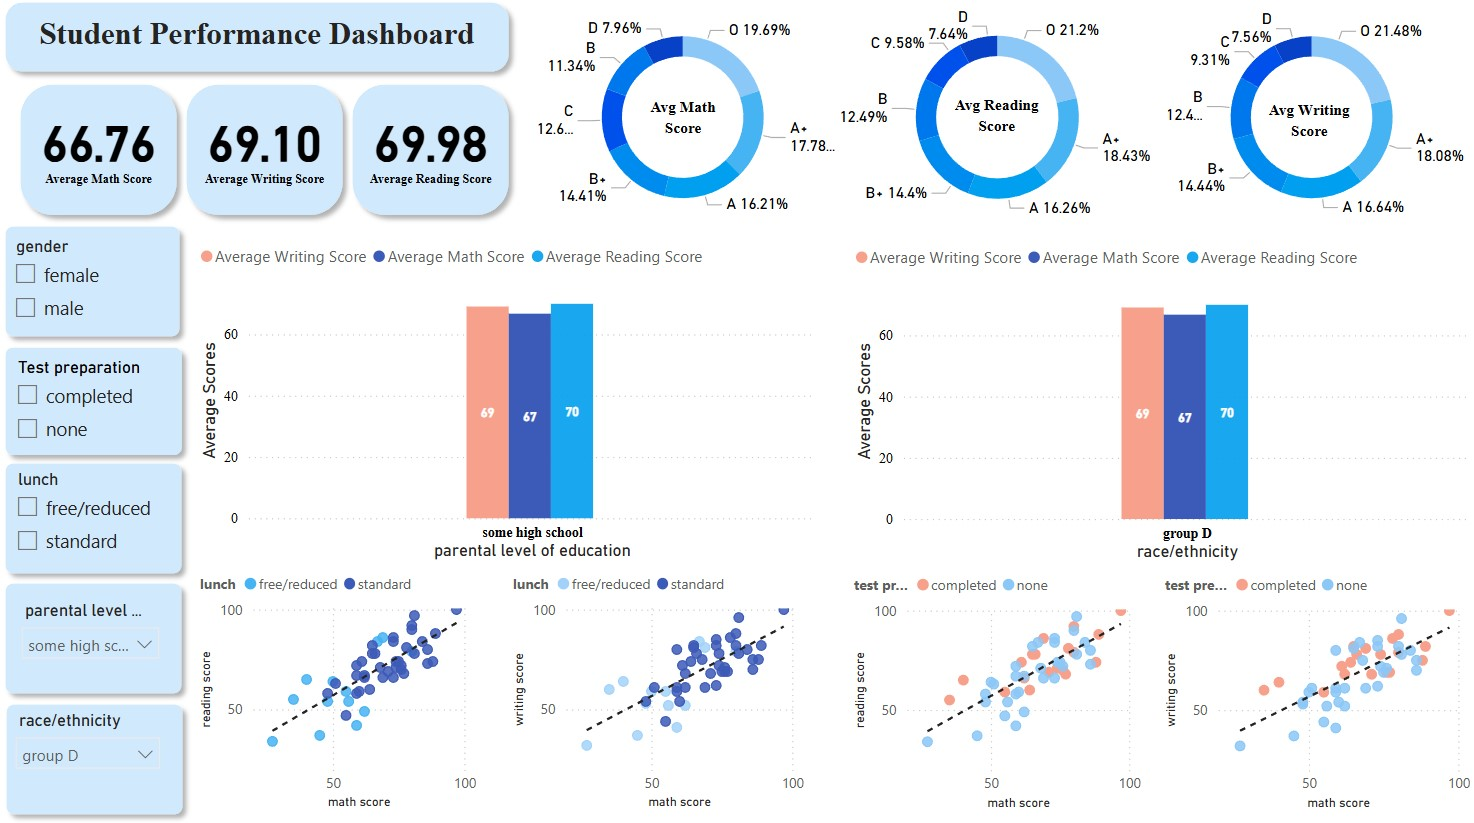

Layout of this report page (visuals, bound fields, positions):
{"tool":"powerbi","page":{"name":"Page 1","canvas":[1280,720],"ordinal":0},"visuals":[{"type":"shape","box":[0,0,453.3,77.8],"z":0},{"type":"textbox","box":[21.1,15.6,411.1,46.7],"z":1000},{"type":"group","id":"g1","title":"Group 1","box":[13.3,71.1,153.3,131.1],"z":2000},{"type":"shape","box":[2.2,202.2,202.2,157.8],"z":2000,"group":"g8"},{"type":"shape","box":[0,527.8,202.2,157],"z":2000,"group":"g9"},{"type":"shape","box":[0,365.6,202.2,157],"z":3000},{"type":"group","id":"g2","title":"Group 1","box":[156.7,71.1,153.3,131.1],"z":4000},{"type":"donutChart","fields":{"Category":["StudentsPerformance.Grade"],"Y":["StudentsPerformance.Average Math Score"]},"box":[453.3,7.8,283.3,201.1],"z":5000,"group":"g5"},{"type":"group","id":"g3","title":"Group 1","box":[299.6,71.1,153.3,131.1],"z":5000},{"type":"donutChart","fields":{"Category":["StudentsPerformance.Grade"],"Y":["StudentsPerformance.Average Reading Score"]},"box":[721.1,7.8,291.1,201.1],"z":6000,"group":"g6"},{"type":"group","id":"g4","title":"Group 4","box":[996.7,7.8,283.3,201.1],"z":6000},{"type":"group","id":"g5","title":"Group 5","box":[453.3,7.8,283.3,201.1],"z":7000},{"type":"textbox","box":[552.2,84.5,86.7,47.8],"z":7000,"group":"g5"},{"type":"shape","box":[13.3,71.1,153.3,131.1],"z":7500,"group":"g1"},{"type":"shape","box":[156.7,71.1,153.3,131.1],"z":7500,"group":"g2"},{"type":"shape","box":[299.6,71.1,153.3,131.1],"z":7500,"group":"g3"},{"type":"group","id":"g6","title":"Group 6","box":[721.1,7.8,291.1,201.1],"z":8000},{"type":"textbox","box":[814.4,83.4,103.3,51.1],"z":8000,"group":"g6"},{"type":"clusteredColumnChart","fields":{"Category":["StudentsPerformance.parental level of education"],"Y":["StudentsPerformance.Average Writing Score","StudentsPerformance.Average Math Score","StudentsPerformance.Average Reading Score"]},"box":[204.4,208.9,542.2,287.8],"z":9000},{"type":"card","fields":{"Values":["StudentsPerformance.Average Math Score"]},"box":[27.7,91.1,124.4,83.3],"z":10000,"group":"g1"},{"type":"card","fields":{"Values":["StudentsPerformance.Average Writing Score"]},"box":[171.1,91.1,124.4,83.3],"z":10000,"group":"g2"},{"type":"card","fields":{"Values":["StudentsPerformance.Average Reading Score"]},"box":[314,91.1,124.4,83.3],"z":10000,"group":"g3"},{"type":"clusteredColumnChart","fields":{"Y":["StudentsPerformance.Average Writing Score","StudentsPerformance.Average Math Score","StudentsPerformance.Average Reading Score"],"Category":["StudentsPerformance.race/ethnicity"]},"box":[737.8,208.9,542.2,287.8],"z":10000},{"type":"group","id":"g7","title":"Group 7","box":[996.7,7.8,283,201.1],"z":10003,"group":"g4"},{"type":"pieChart","fields":{"Y":["CountNonNull(StudentsPerformance.gender)"],"Category":["StudentsPerformance.gender"]},"box":[2.2,215.8,200,131.6],"z":10007,"group":"g8"},{"type":"pieChart","fields":{"Category":["StudentsPerformance.lunch"],"Y":["CountNonNull(StudentsPerformance.lunch)"]},"box":[0,541.3,200,131],"z":10007,"group":"g9"},{"type":"group","id":"g8","title":"Group 2","box":[2.2,202.2,202.2,157.8],"z":11000},{"type":"pieChart","fields":{"Category":["StudentsPerformance.test preparation course"],"Y":["CountNonNull(StudentsPerformance.test preparation course)"]},"box":[0,379,200,131],"z":12000},{"type":"group","id":"g9","title":"Group 2","box":[0,527.8,202.2,156.7],"z":13000},{"type":"donutChart","fields":{"Category":["StudentsPerformance.Grade"],"Y":["StudentsPerformance.Average Writing Score"]},"box":[996.7,7.8,283,201.1],"z":14000,"group":"g7"},{"type":"scatterChart","fields":{"Y":["StudentsPerformance.writing score"],"Series":["StudentsPerformance.lunch"],"X":["StudentsPerformance.math score"]},"box":[463.7,496.7,262.2,218.9],"z":14000},{"type":"scatterChart","fields":{"X":["StudentsPerformance.math score"],"Y":["StudentsPerformance.reading score"],"Series":["StudentsPerformance.lunch"]},"box":[204.4,496.7,248.9,218.9],"z":15000},{"type":"textbox","box":[1090.3,87.4,92.2,51.1],"z":15002,"group":"g7"},{"type":"scatterChart","fields":{"X":["StudentsPerformance.math score"],"Y":["StudentsPerformance.reading score"],"Series":["StudentsPerformance.test preparation course"]},"box":[736.3,496.7,258.9,218.9],"z":16000},{"type":"scatterChart","fields":{"X":["StudentsPerformance.math score"],"Y":["StudentsPerformance.writing score"],"Series":["StudentsPerformance.test preparation course"]},"box":[1005.6,496.7,274.4,218.9],"z":17000}]}

Visuals, with their boxes in screenshot pixels (x1, y1, x2, y2), scaled from the page's 1280x720 canvas onto the 1474x823 screenshot:
shape: bbox(0, 0, 522, 89)
textbox: bbox(24, 18, 498, 71)
"Group 1" group: bbox(15, 81, 192, 231)
shape: bbox(3, 231, 235, 412)
shape: bbox(0, 603, 233, 783)
shape: bbox(0, 418, 233, 597)
"Group 1" group: bbox(180, 81, 357, 231)
donutChart - StudentsPerformance.Grade x StudentsPerformance.Average Math Score: bbox(522, 9, 848, 239)
"Group 1" group: bbox(345, 81, 522, 231)
donutChart - StudentsPerformance.Grade x StudentsPerformance.Average Reading Score: bbox(830, 9, 1166, 239)
"Group 4" group: bbox(1148, 9, 1473, 239)
"Group 5" group: bbox(522, 9, 848, 239)
textbox: bbox(636, 97, 736, 151)
shape: bbox(15, 81, 192, 231)
shape: bbox(180, 81, 357, 231)
shape: bbox(345, 81, 522, 231)
"Group 6" group: bbox(830, 9, 1166, 239)
textbox: bbox(938, 95, 1057, 154)
clusteredColumnChart - StudentsPerformance.parental level of education x StudentsPerformance.Average Writing Score: bbox(235, 239, 860, 568)
card - StudentsPerformance.Average Math Score: bbox(32, 104, 175, 199)
card - StudentsPerformance.Average Writing Score: bbox(197, 104, 340, 199)
card - StudentsPerformance.Average Reading Score: bbox(362, 104, 505, 199)
clusteredColumnChart - StudentsPerformance.Average Writing Score x StudentsPerformance.Average Math Score: bbox(850, 239, 1473, 568)
"Group 7" group: bbox(1148, 9, 1473, 239)
pieChart - CountNonNull(StudentsPerformance.gender) x StudentsPerformance.gender: bbox(3, 247, 233, 397)
pieChart - StudentsPerformance.lunch x CountNonNull(StudentsPerformance.lunch): bbox(0, 619, 230, 768)
"Group 2" group: bbox(3, 231, 235, 412)
pieChart - StudentsPerformance.test preparation course x CountNonNull(StudentsPerformance.test preparation course): bbox(0, 433, 230, 583)
"Group 2" group: bbox(0, 603, 233, 782)
donutChart - StudentsPerformance.Grade x StudentsPerformance.Average Writing Score: bbox(1148, 9, 1473, 239)
scatterChart - StudentsPerformance.writing score x StudentsPerformance.lunch: bbox(534, 568, 836, 818)
scatterChart - StudentsPerformance.math score x StudentsPerformance.reading score: bbox(235, 568, 522, 818)
textbox: bbox(1256, 100, 1362, 158)
scatterChart - StudentsPerformance.math score x StudentsPerformance.reading score: bbox(848, 568, 1146, 818)
scatterChart - StudentsPerformance.math score x StudentsPerformance.writing score: bbox(1158, 568, 1473, 818)
